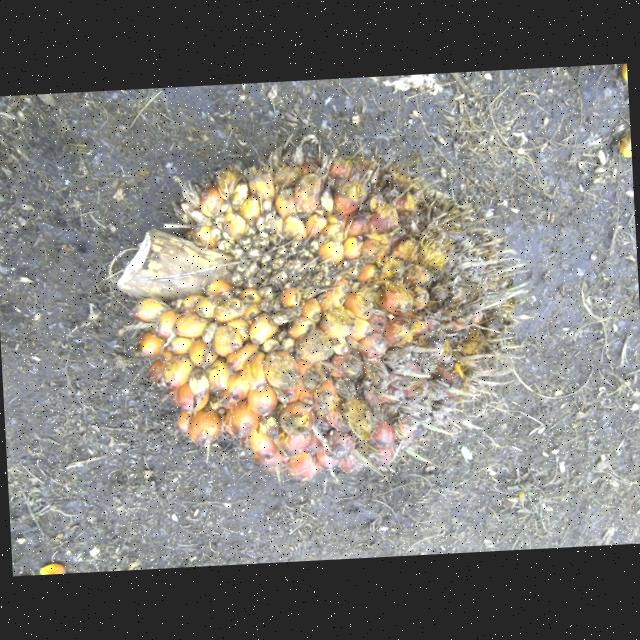Ripe: (129, 155, 508, 479)
